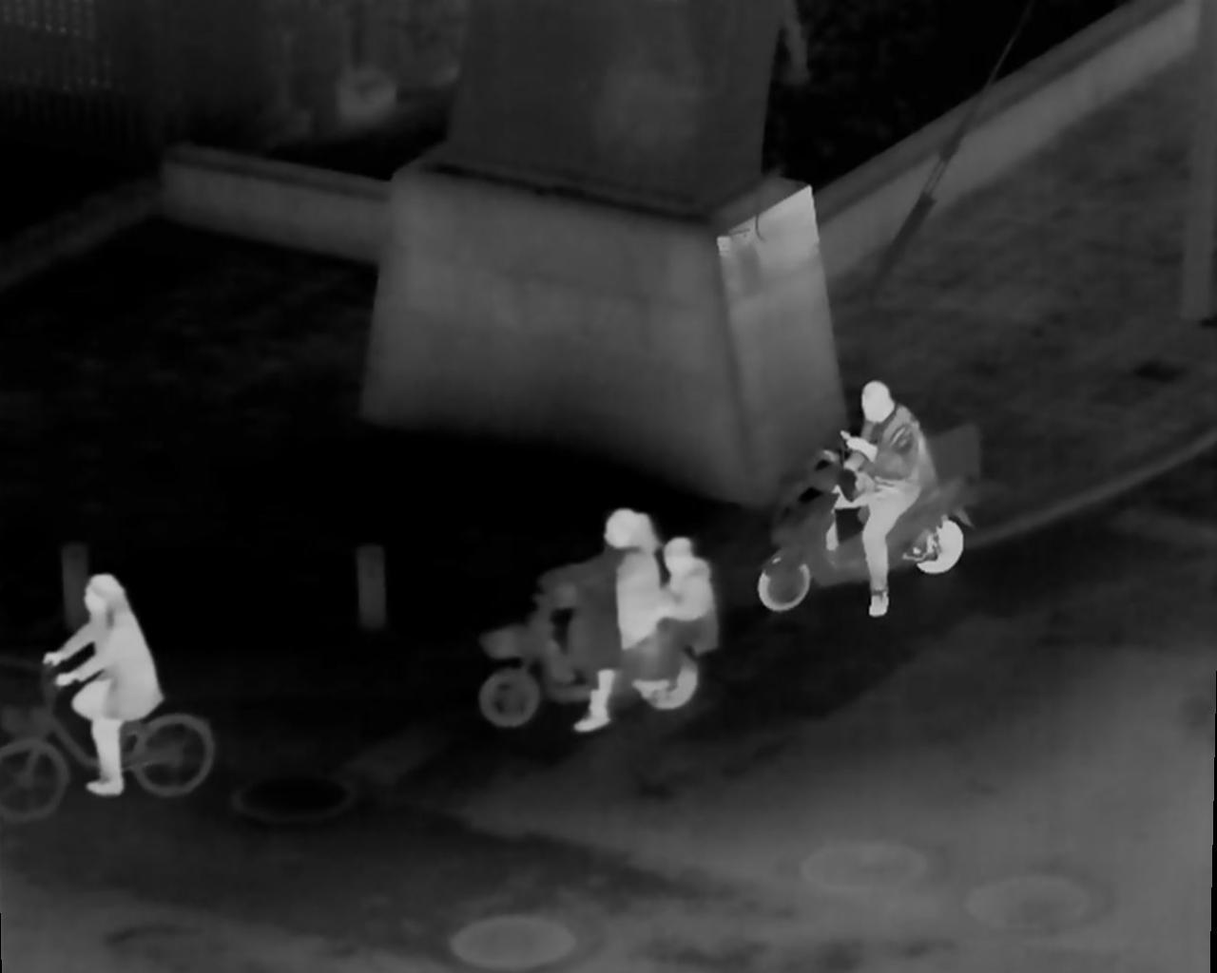person: (49, 573, 168, 805), (835, 374, 936, 619), (570, 506, 663, 740), (642, 532, 715, 704)
